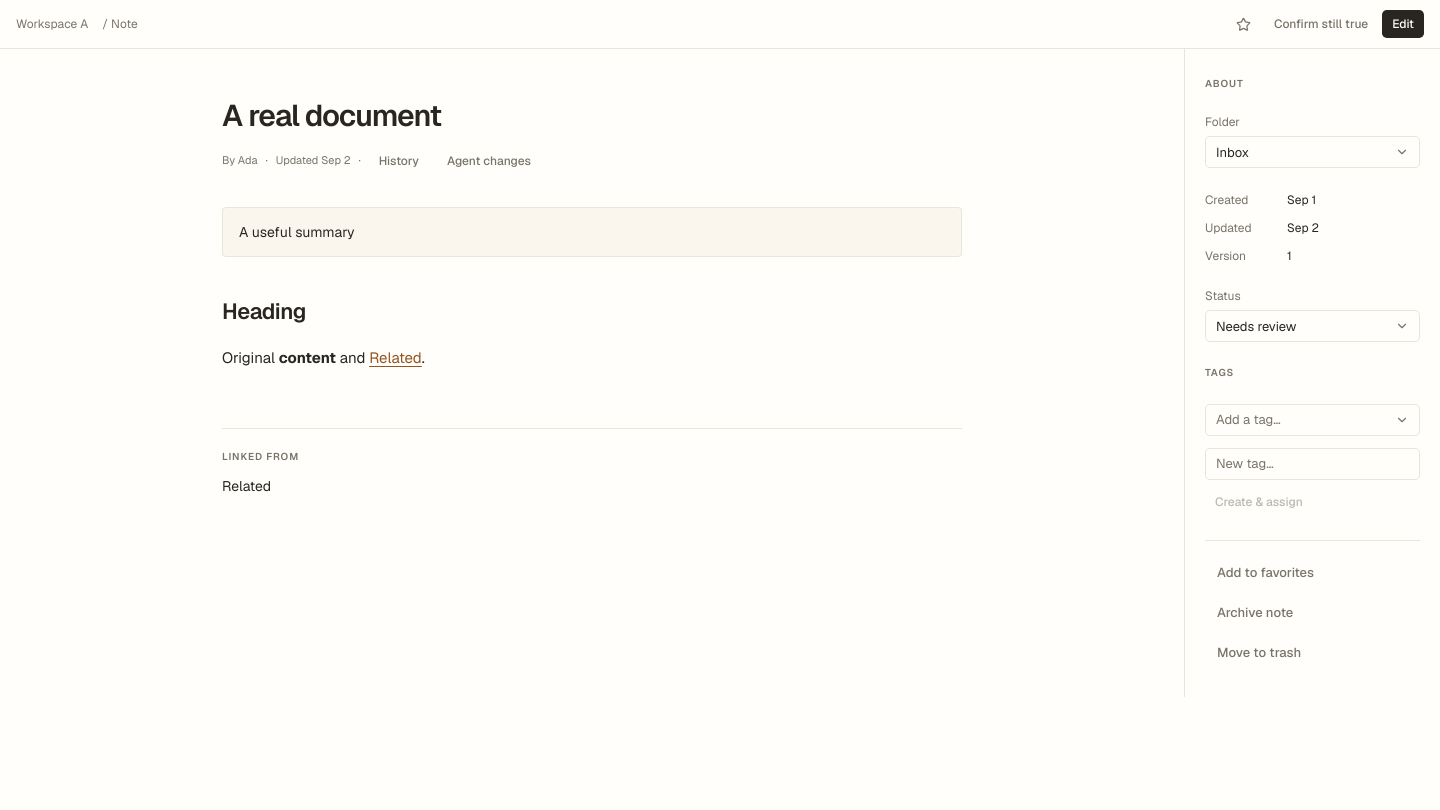
document interactions › retains draft on conflict, reloads latest and keeps the old draft for comparison
Click the button "Edit": [1403, 24] box x1=1382 y1=10 x2=1424 y2=38
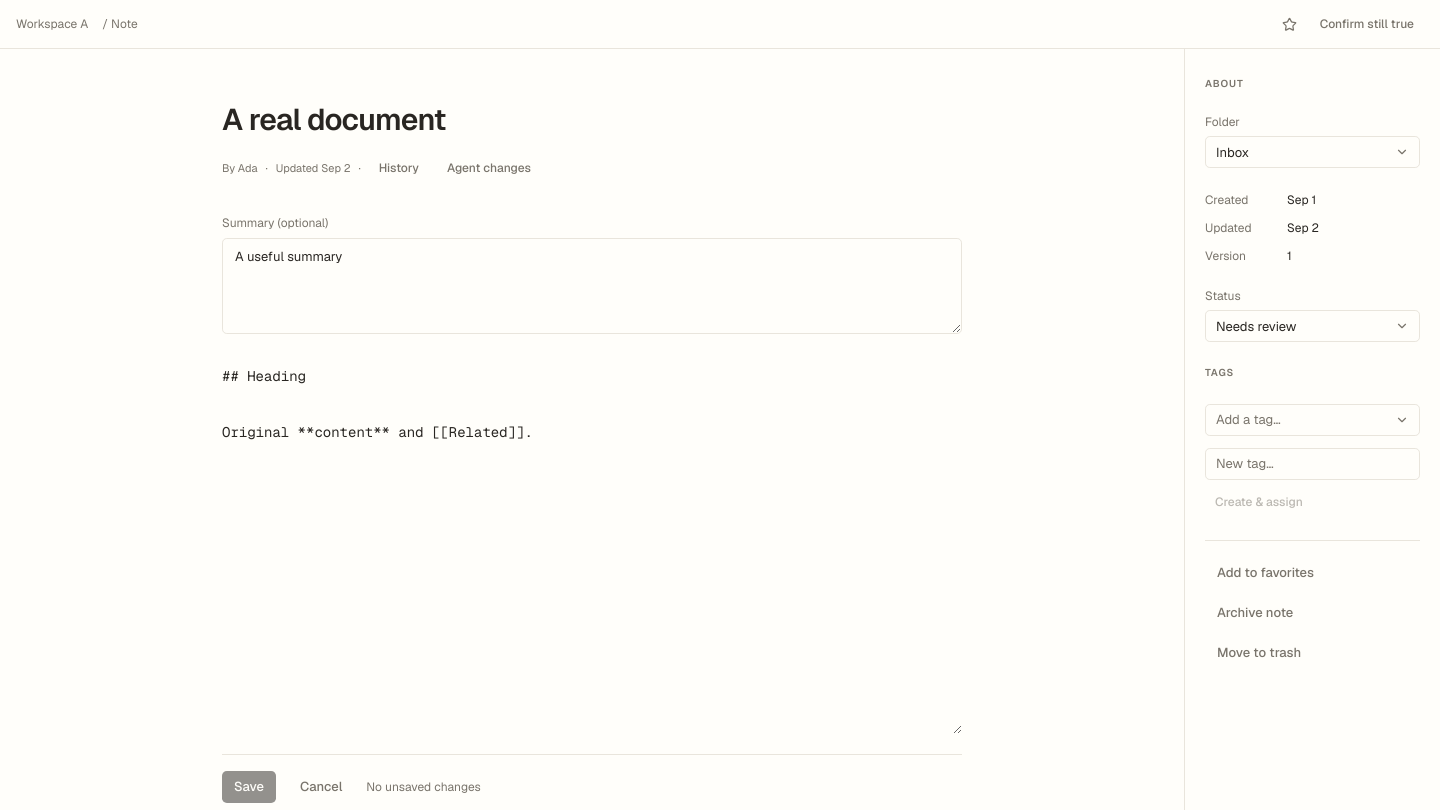
Replace the text in the text box named "Note content" with "My preserved draft": [592, 544] box x1=222 y1=354 x2=962 y2=734
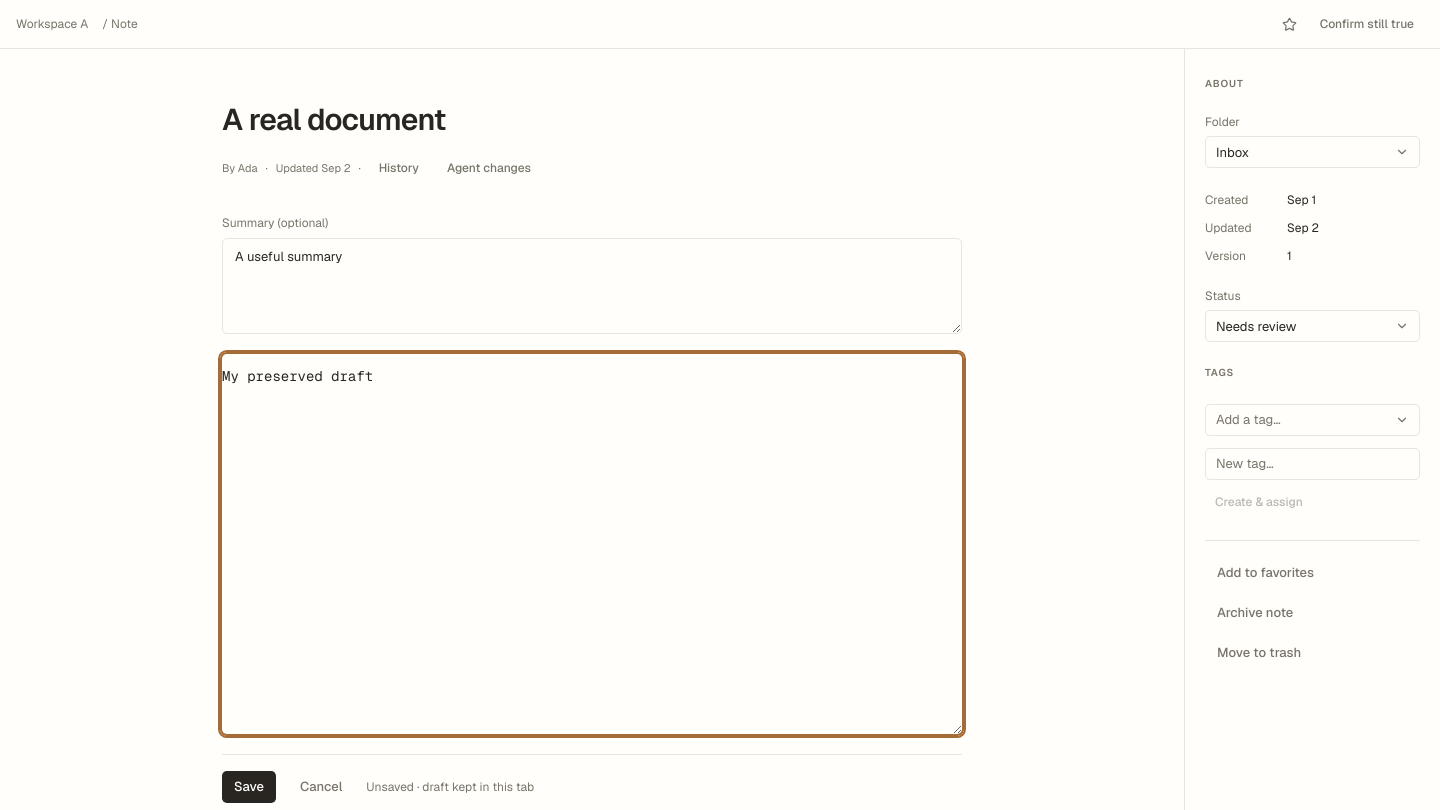
Click the button "Save": [249, 787] box x1=222 y1=771 x2=276 y2=803
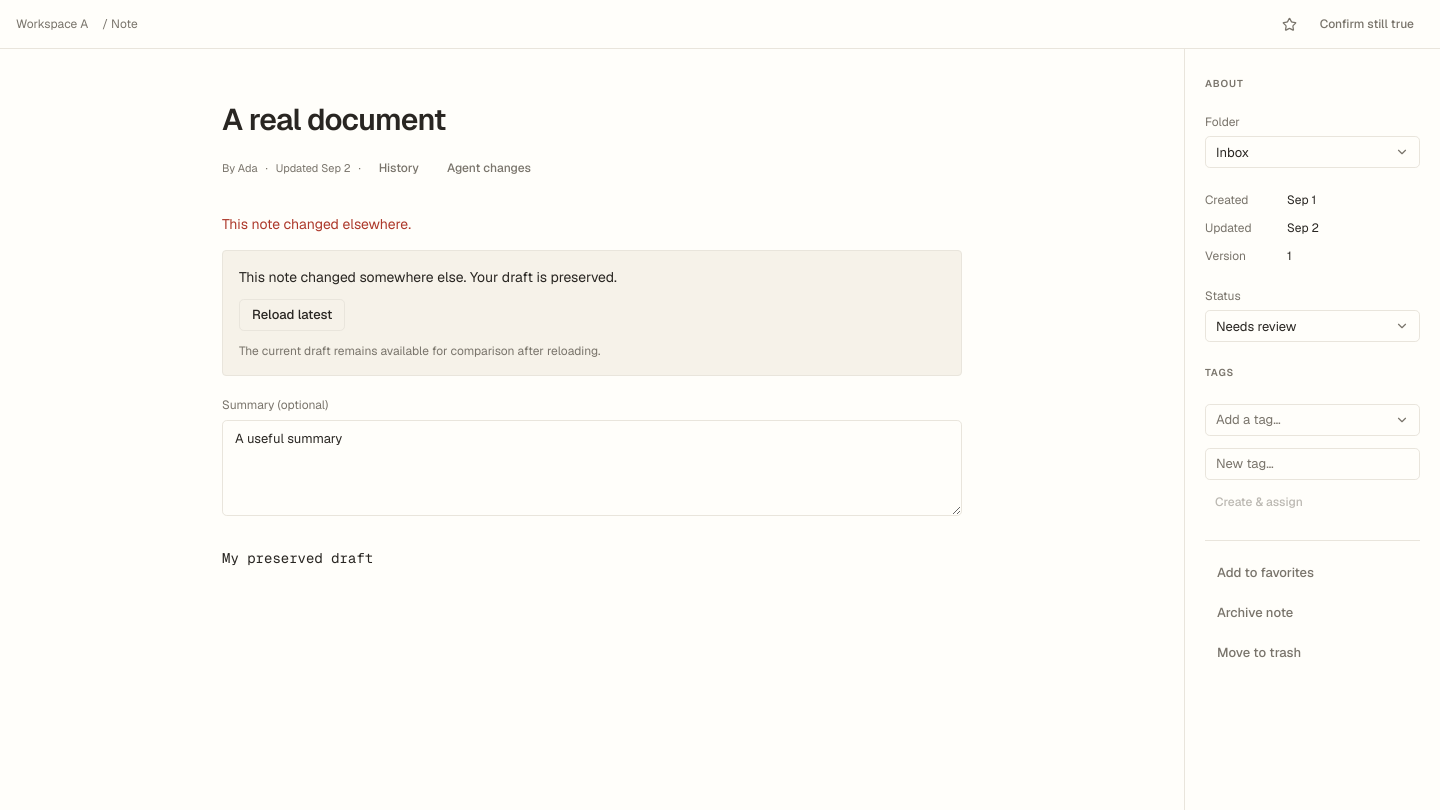
Now the button "Reload latest" is shown
Click the button "Reload latest": [292, 315] box x1=239 y1=299 x2=345 y2=331
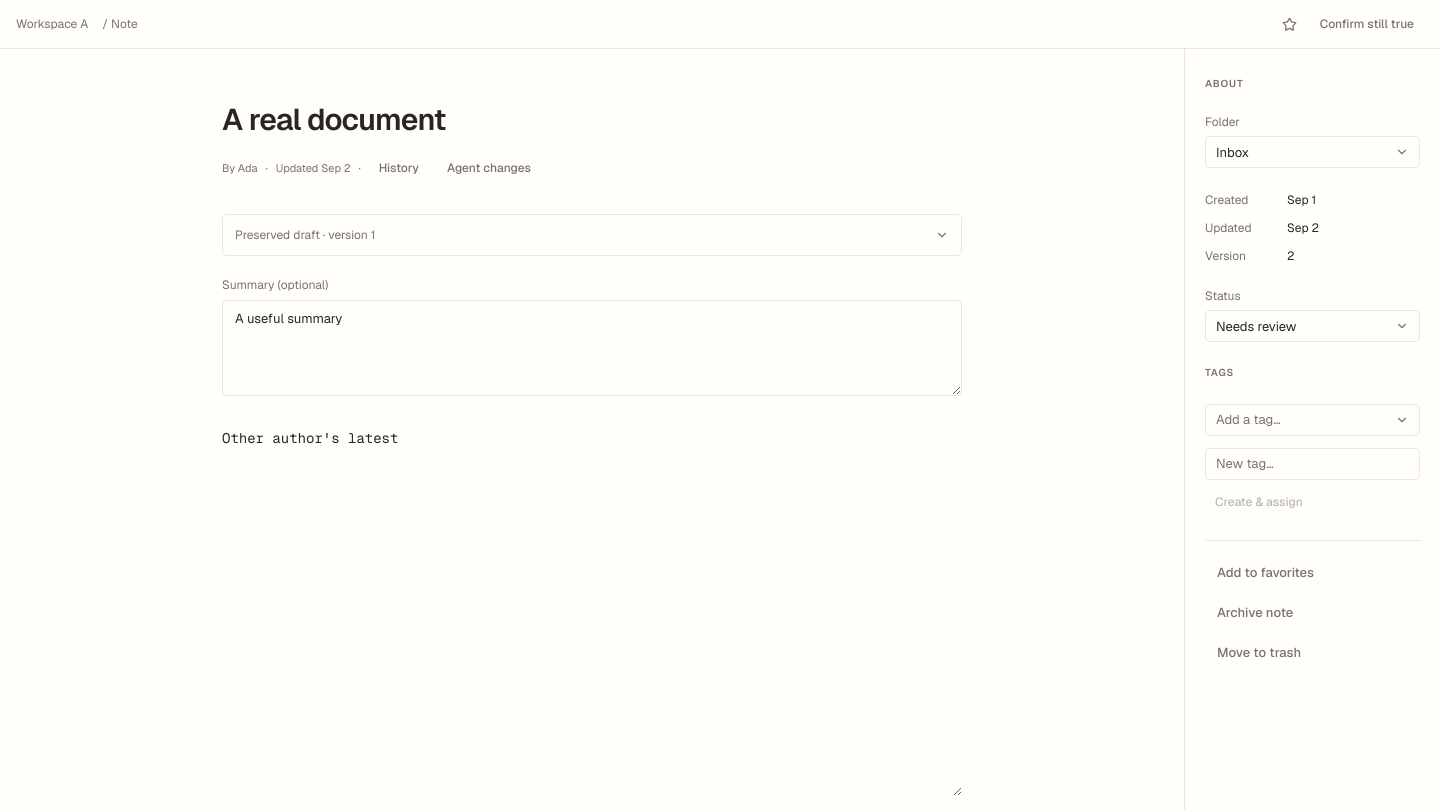
Now the text box named "Note content" holds "Other author's latest", box x1=222 y1=416 x2=962 y2=796
Click the button "Preserved draft · version 1": [303, 235] box x1=223 y1=215 x2=961 y2=255
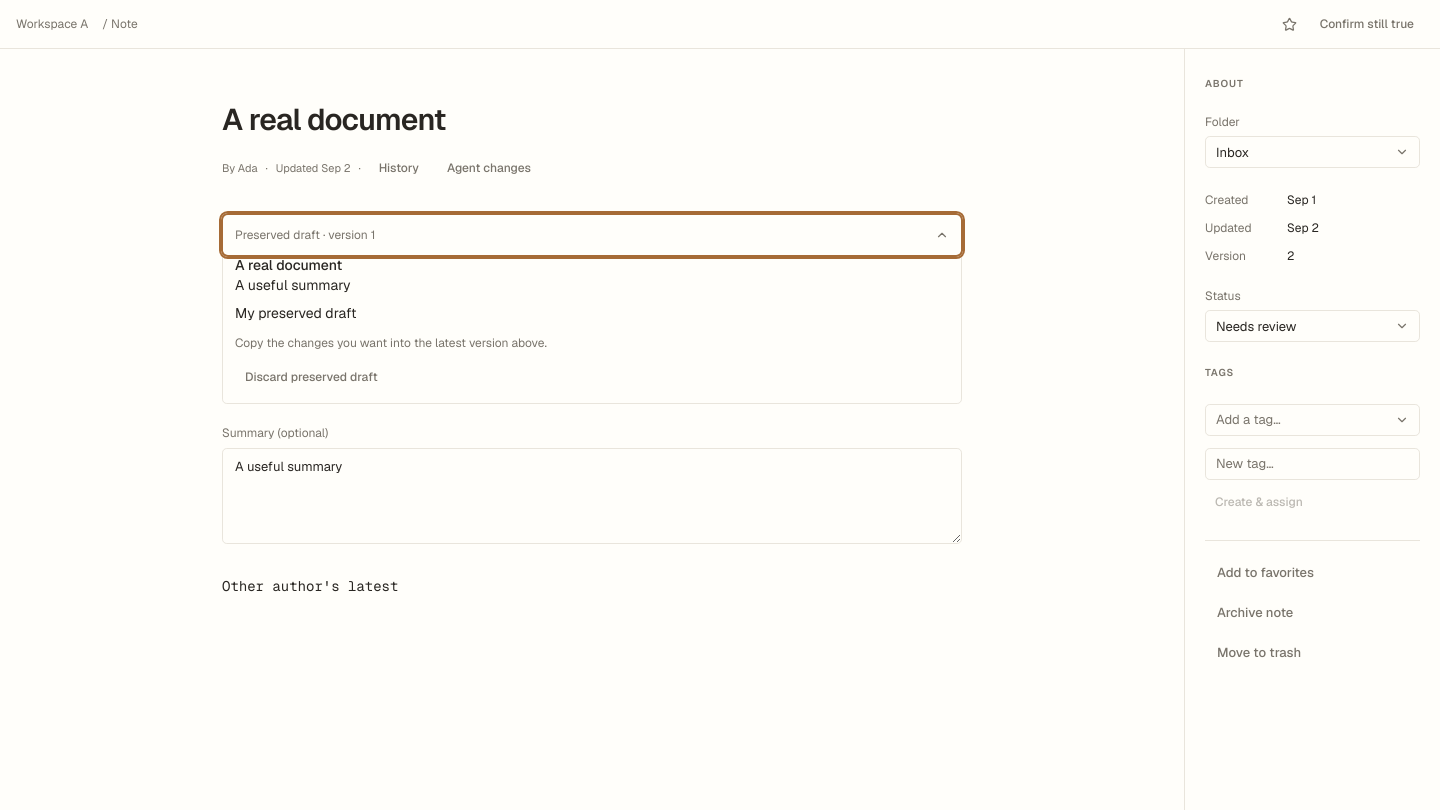
Now the text "My preserved draft" is shown, box x1=235 y1=304 x2=356 y2=322
